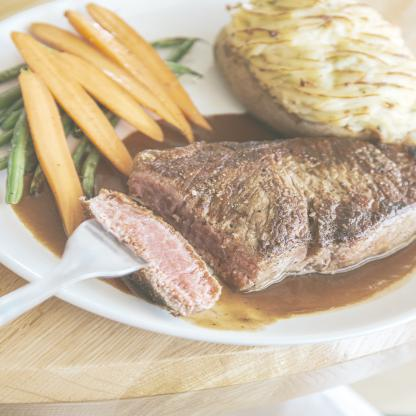Carne: (134, 137, 415, 296)
